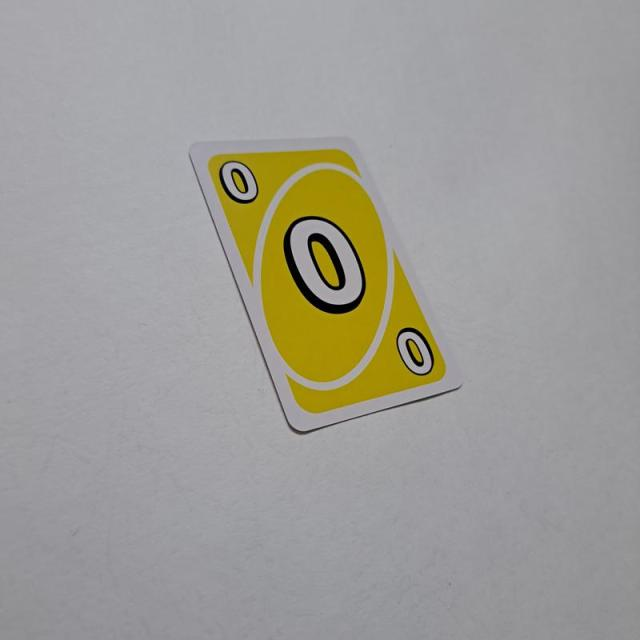Number_0: (216, 156, 264, 208)
Yellow_Card: (204, 148, 452, 420)
